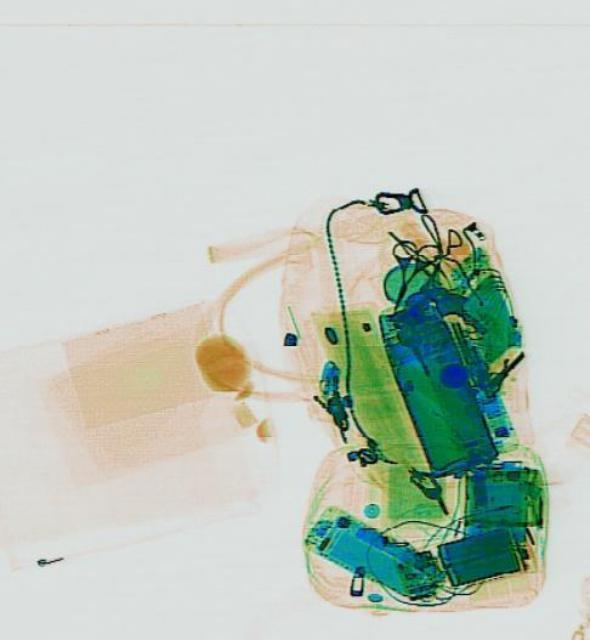Scissors: (365, 230, 438, 324)
